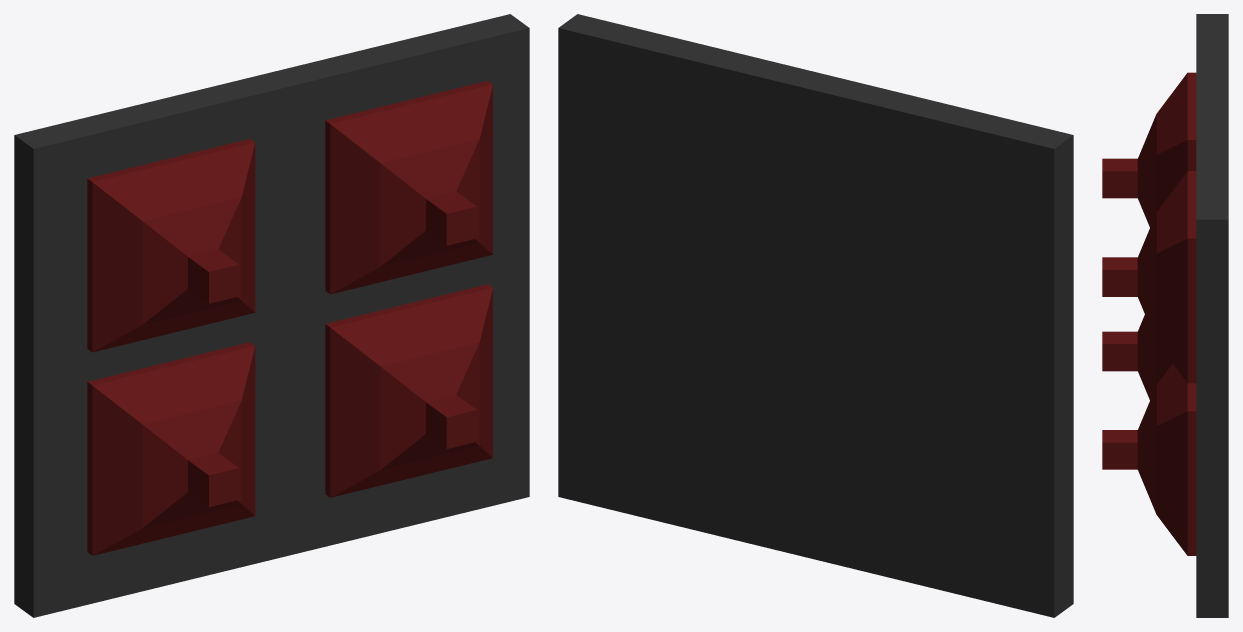
Rendered from Trampa.fbx.
3 views of the same model, side by side, from view 1: azimuth 30°, elevation 25°; view 2: azimuth 150°, elevation 25°; view 3: azimuth 270°, elevation 25° (orthographic). The views are drawn at different scales.
Visible parts, largest first — view 1: Cube; view 2: Cube; view 3: Cube.
Part boxes in pixels (bbox=[...]): Cube: bbox=[14, 14, 529, 617]; Cube: bbox=[558, 14, 1073, 617]; Cube: bbox=[1102, 14, 1228, 617].
Size of the model in its own units: 609 by 551 by 158.
